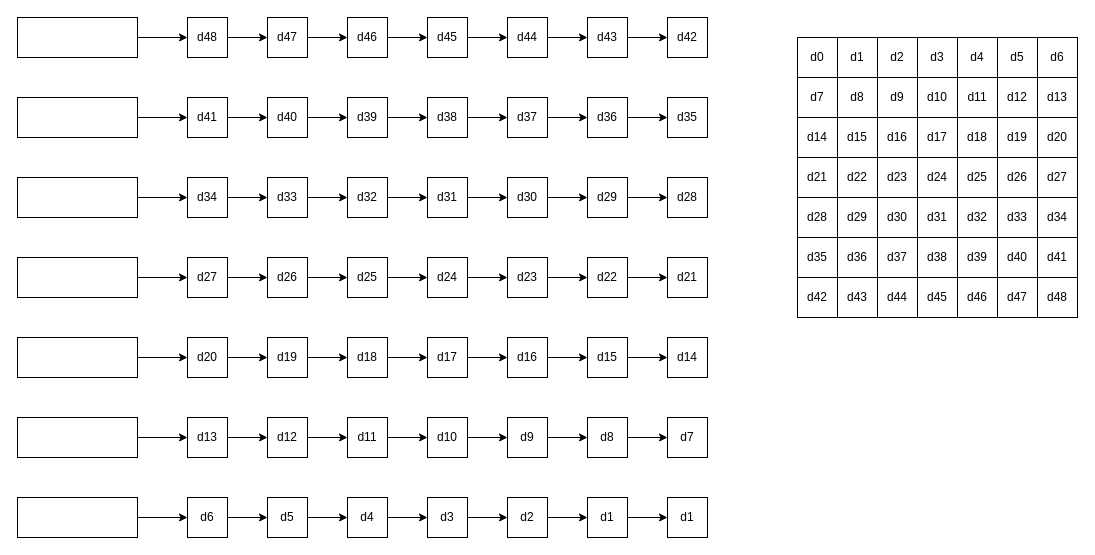
Some shapes in this 1095 by 555 pixel diagram are drawn without their labels. Here are the shapes that lost their labels. From the top down, the centre of each, then its label:
the point at 77,37: Line_buffer_0
the point at 77,117: Line_buffer_1
the point at 77,197: Line_buffer_2
the point at 77,277: Line_buffer_3
the point at 77,357: Line_buffer_4
the point at 77,437: Line_buffer_5
the point at 77,517: Line_buffer_6
